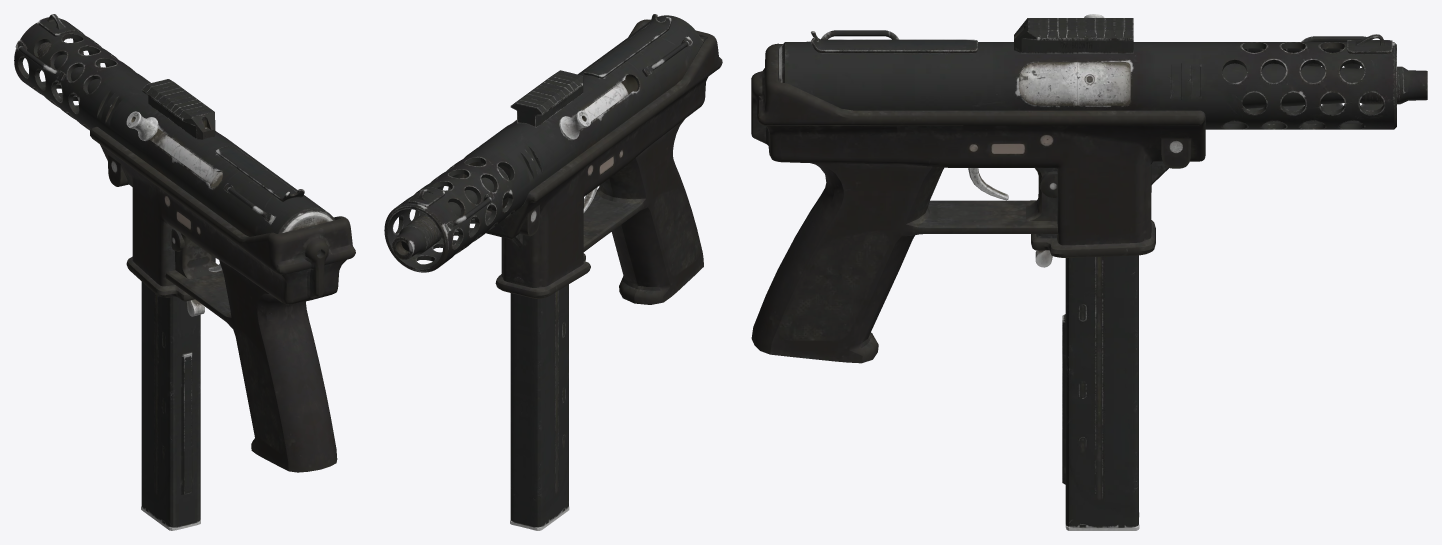
The model's file is tec9.glb.
The picture shows the model from 3 angles, left to right: view 1: azimuth 30°, elevation 25°; view 2: azimuth 150°, elevation 25°; view 3: azimuth 270°, elevation 25°; orthographic projection. The views are drawn at different scales.
Parts seen in each view (by area): view 1: FRAME_LOD0.001, FRAME_LOD0; view 2: FRAME_LOD0.001, FRAME_LOD0; view 3: FRAME_LOD0.001, FRAME_LOD0.
Part boxes in pixels (left/top/right/bottom): FRAME_LOD0.001: left=14, top=14, right=355, bottom=530; FRAME_LOD0: left=141, top=79, right=215, bottom=139; FRAME_LOD0.001: left=384, top=14, right=722, bottom=530; FRAME_LOD0: left=510, top=70, right=583, bottom=127; FRAME_LOD0.001: left=751, top=14, right=1427, bottom=530; FRAME_LOD0: left=1014, top=18, right=1133, bottom=53.
Size of the model in its own units: 0.0547 by 0.259 by 0.319.
1 material, 1 textured.
